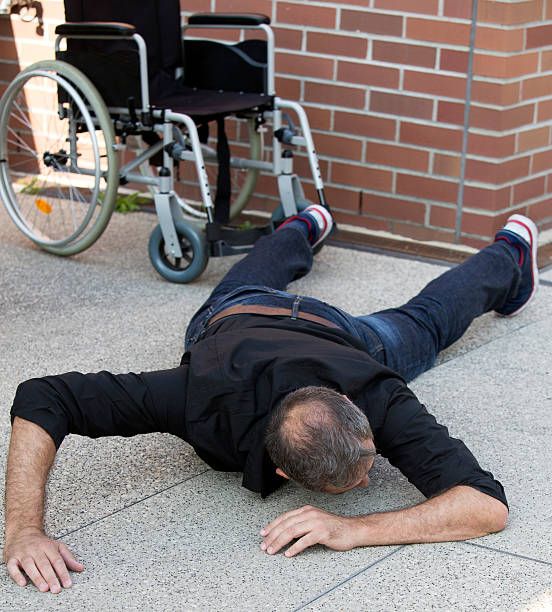collapsed: (6, 192, 552, 601)
